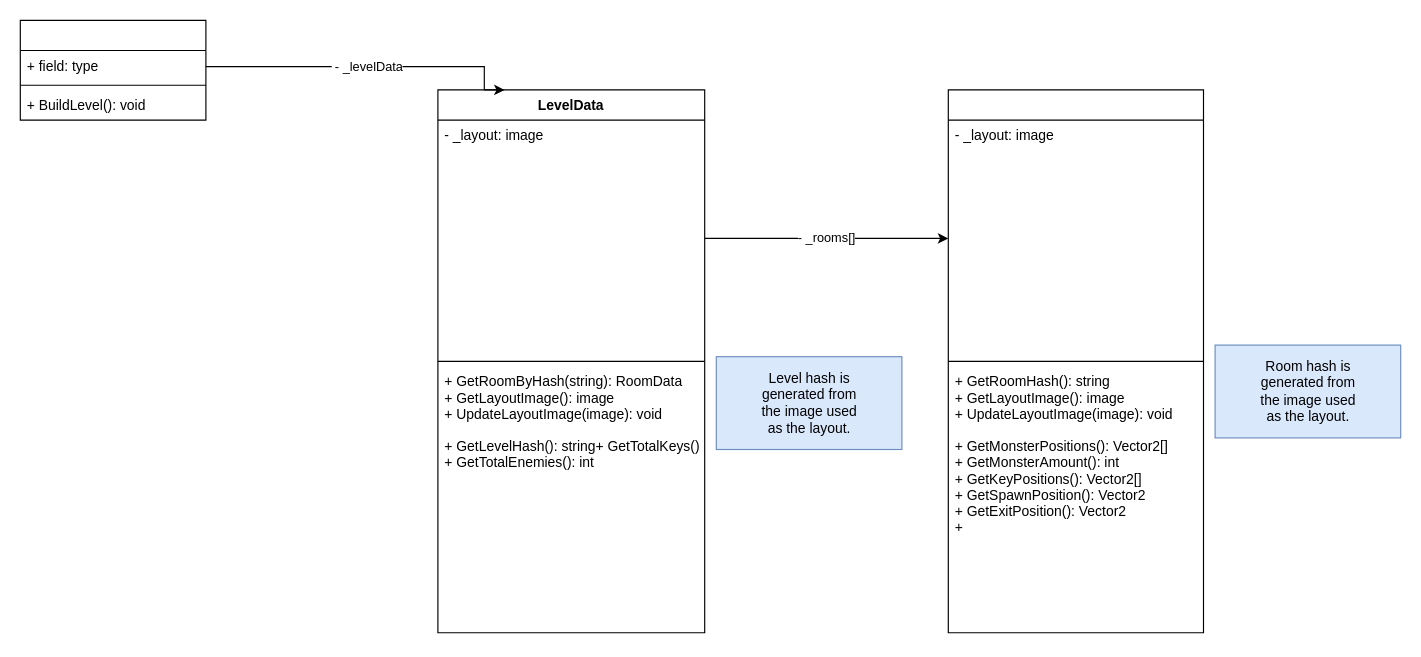
This 1421x657 diagram has some shape labels left out. Each missing label, with the box of its shape:
Level Generation: (19, 19, 206, 120)
RoomData: (947, 89, 1204, 633)
